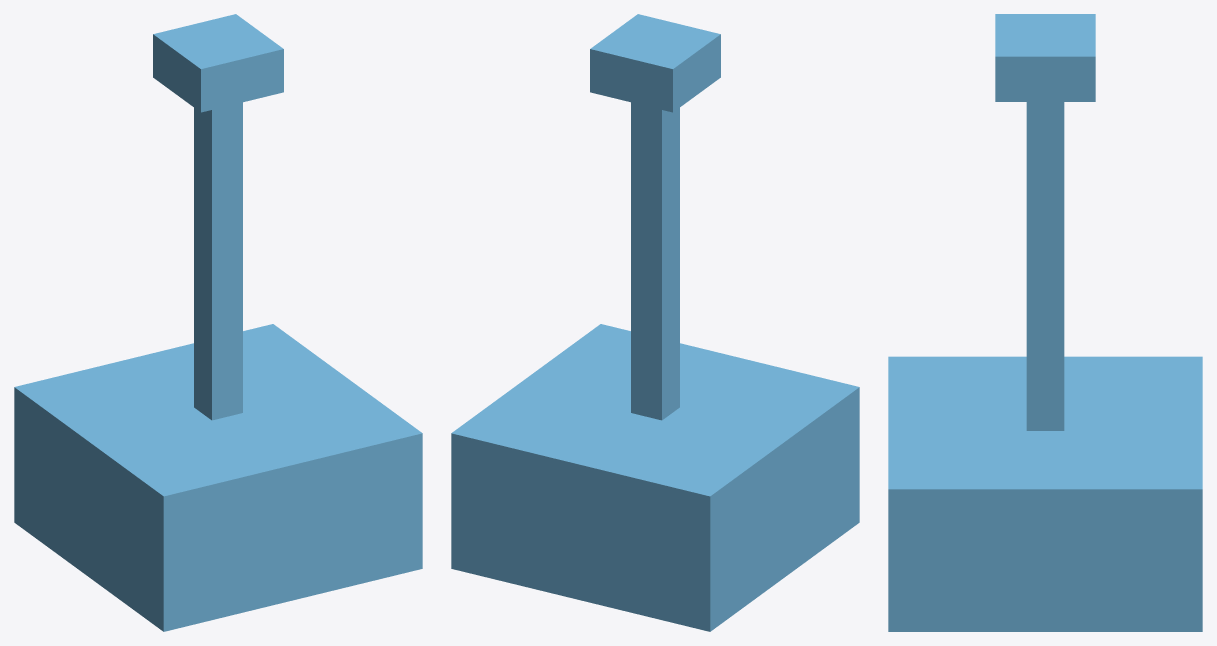
Rendered from groundstation.glb.
The picture shows the model from 3 angles, left to right: view 1: azimuth 30°, elevation 25°; view 2: azimuth 150°, elevation 25°; view 3: azimuth 270°, elevation 25°; orthographic projection. The views are drawn at different scales.
Bounding box in the file's own units: 1 × 1.86 × 1.
